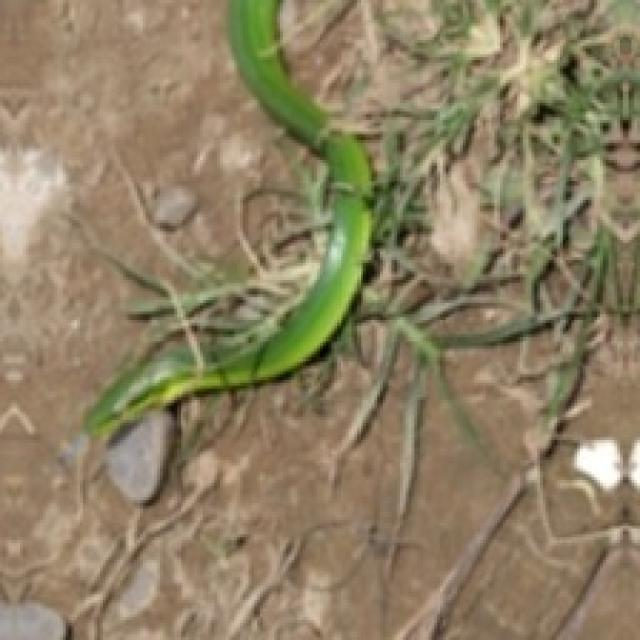red-tailed green ratsnake: (86, 0, 369, 431)
